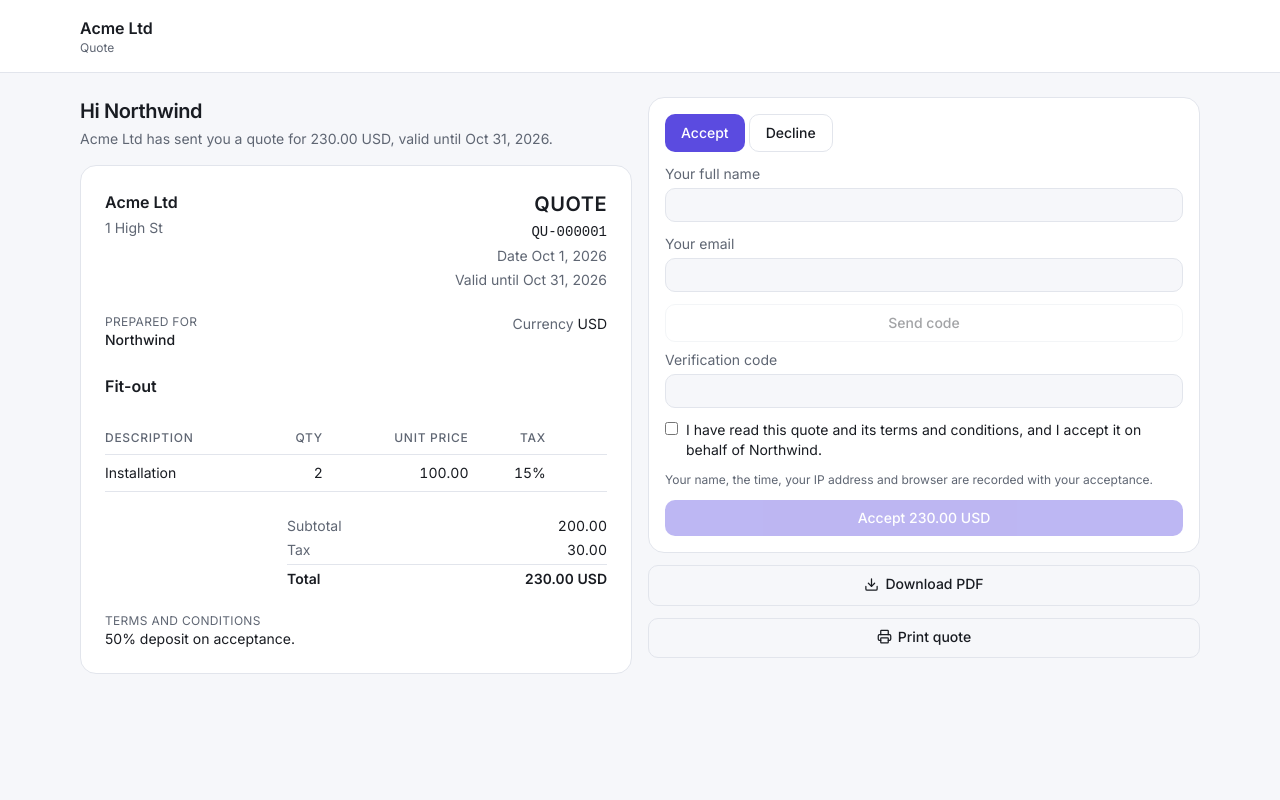
Scenario: PublicQuotePage › requires an emailed code when the organization asks for one
Expected: the heading "Hi Northwind" is shown, top-left (80, 99), bottom-right (202, 123)
Type "Jane Doe" into the field labelled "Your full name" at (924, 205), box top-left (665, 188), bottom-right (1183, 222)
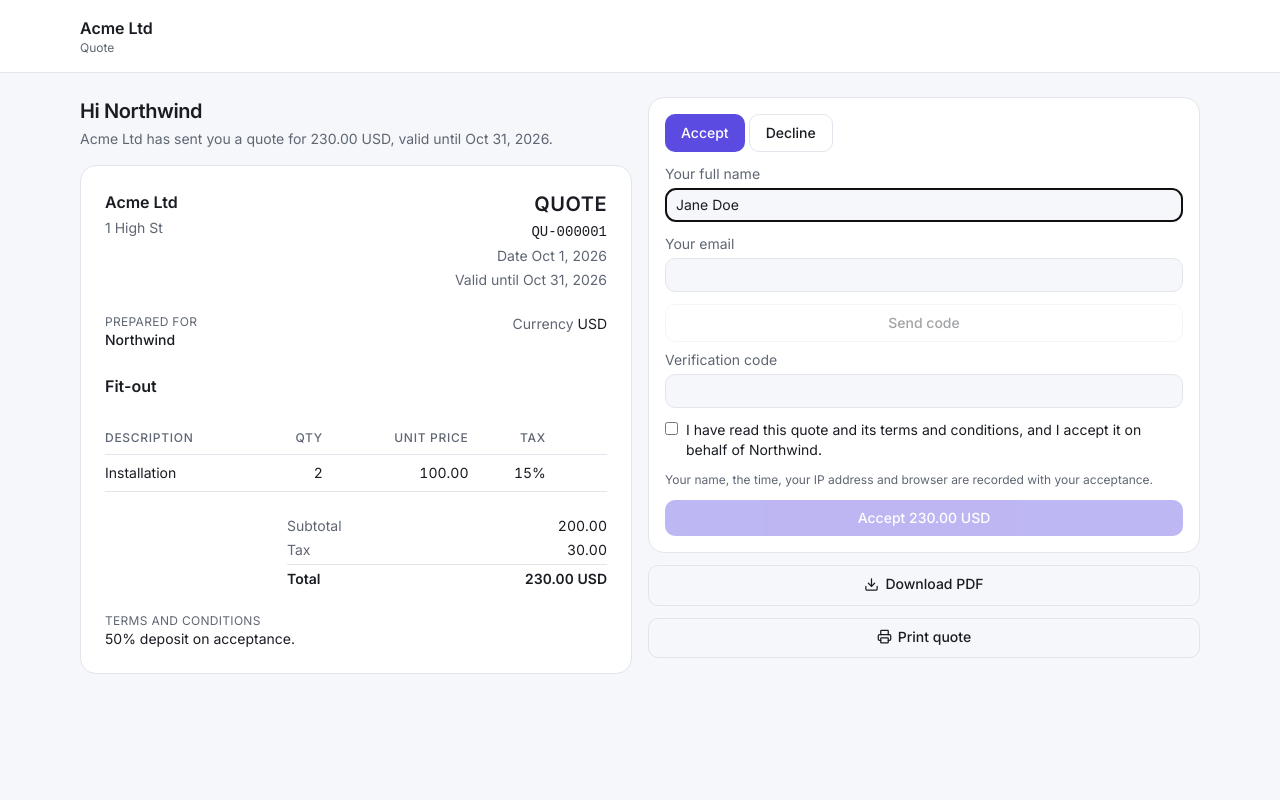
Click the checkbox at (672, 428), box top-left (665, 422), bottom-right (678, 435)
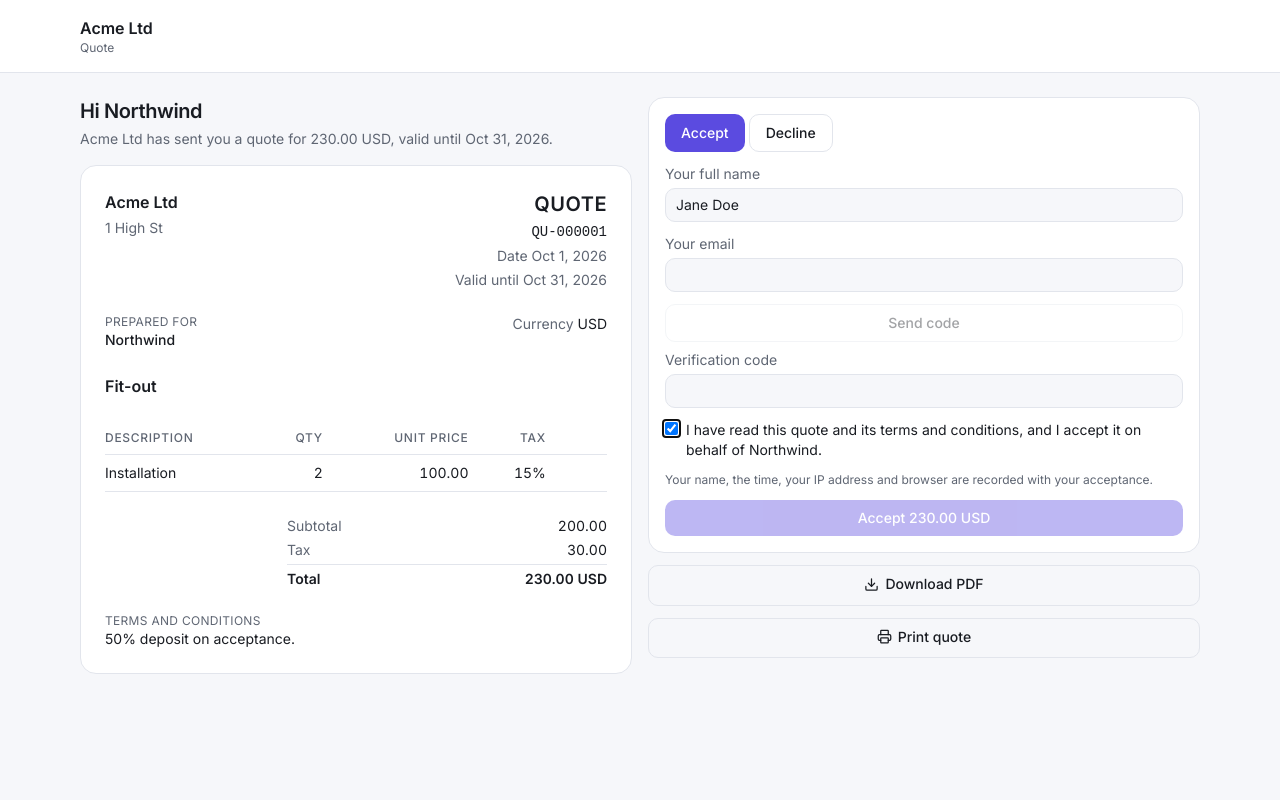
Expected: the button "Accept 230.00 USD" is disabled, top-left (665, 500), bottom-right (1183, 536)
Type "jane@northwind.test" into the field labelled "Your email" at (924, 275), box top-left (665, 258), bottom-right (1183, 292)
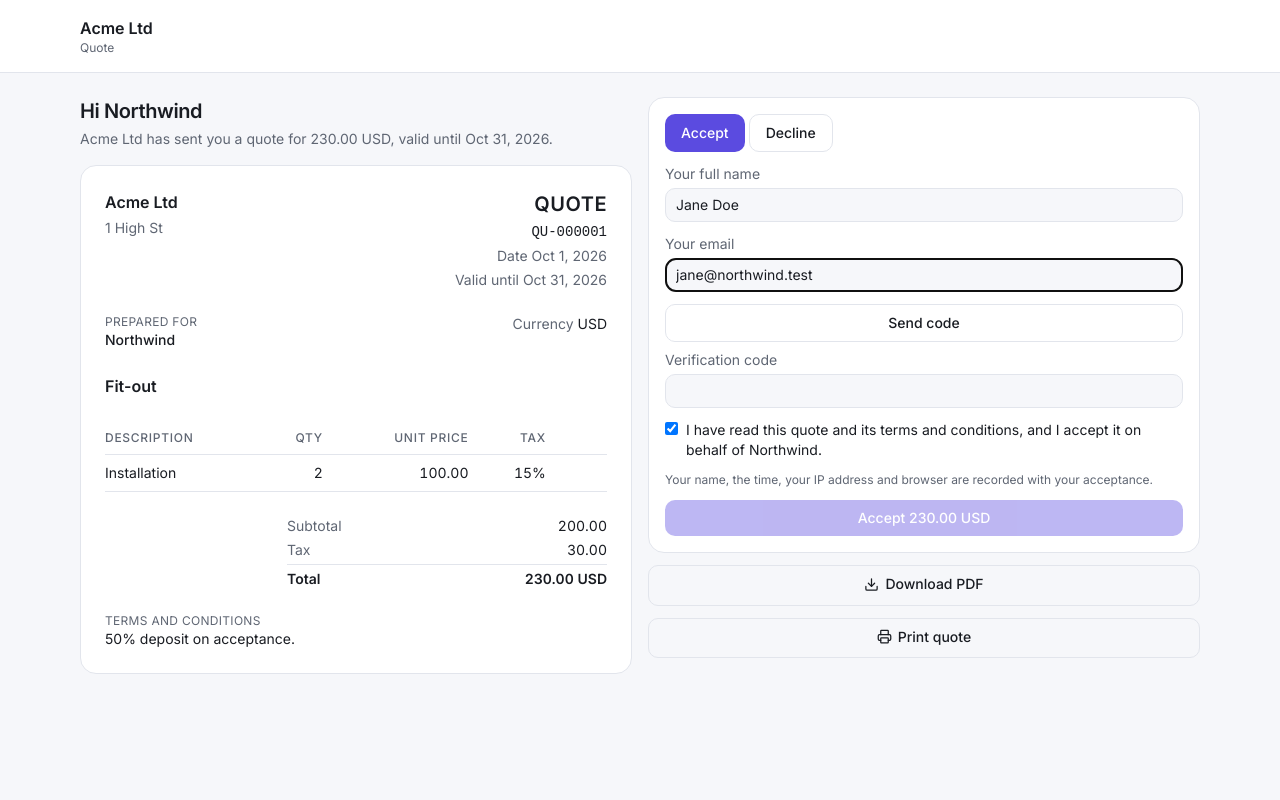
Click the button "Send code" at (924, 323), box top-left (665, 304), bottom-right (1183, 342)
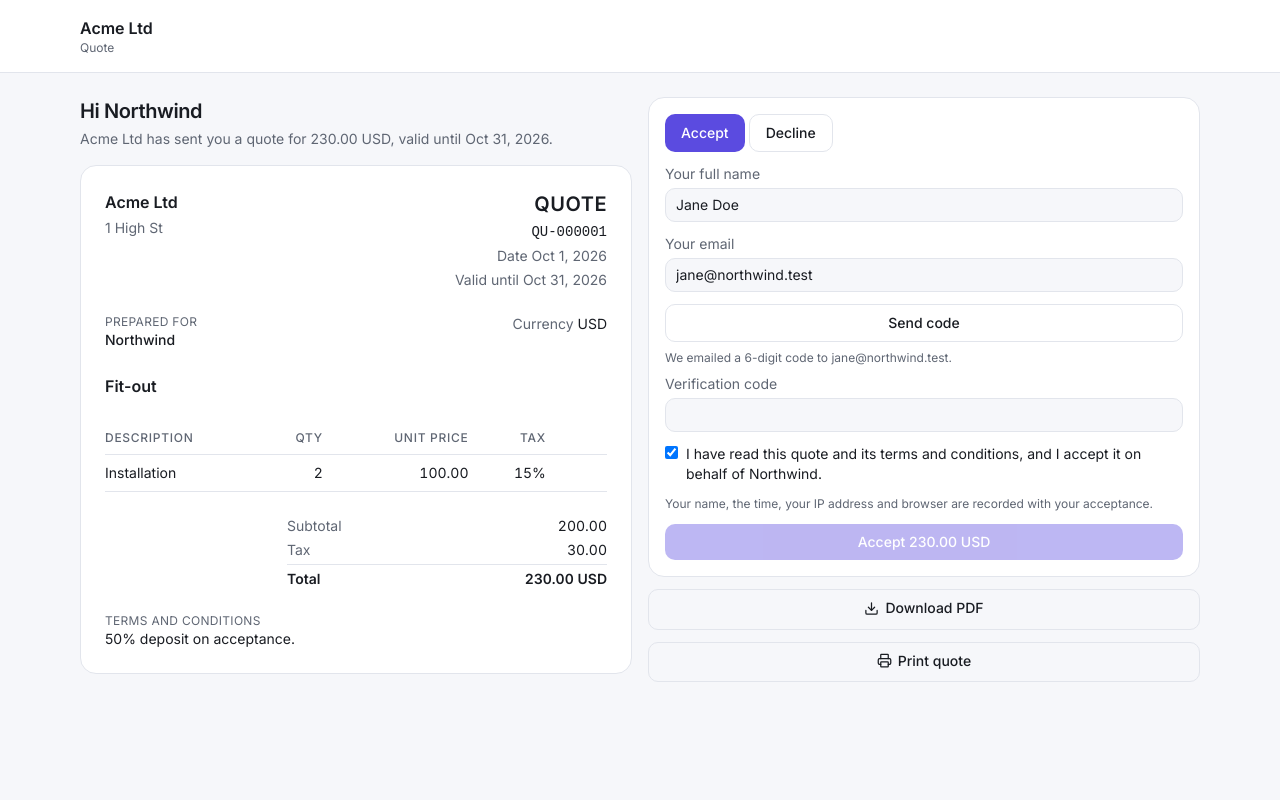
Now the text "We emailed a 6-digit code to jane@northwind.test." is shown, box top-left (665, 350), bottom-right (952, 365)
Type "123456" into the field labelled "Verification code" at (924, 415), box top-left (665, 398), bottom-right (1183, 432)
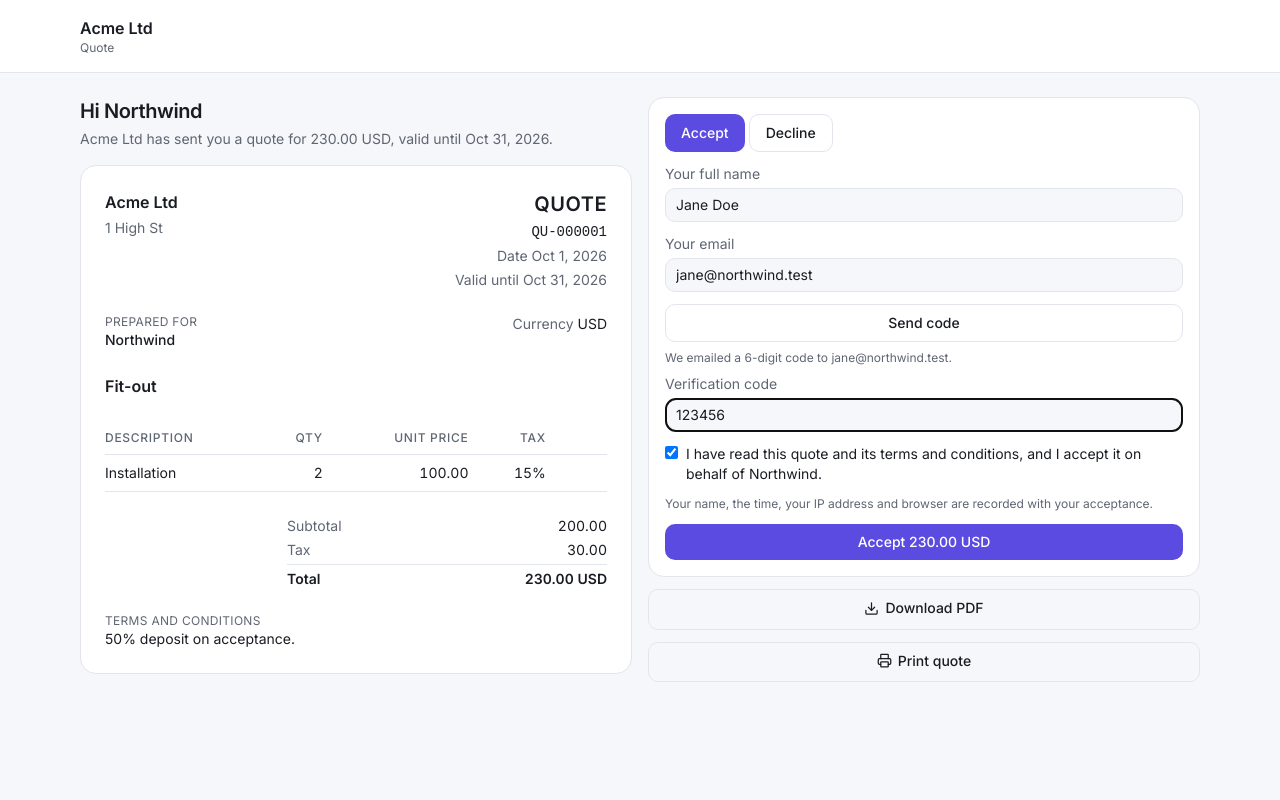
Now the button "Accept 230.00 USD" is enabled
Click the button "Accept 230.00 USD" at (924, 542), box top-left (665, 524), bottom-right (1183, 560)
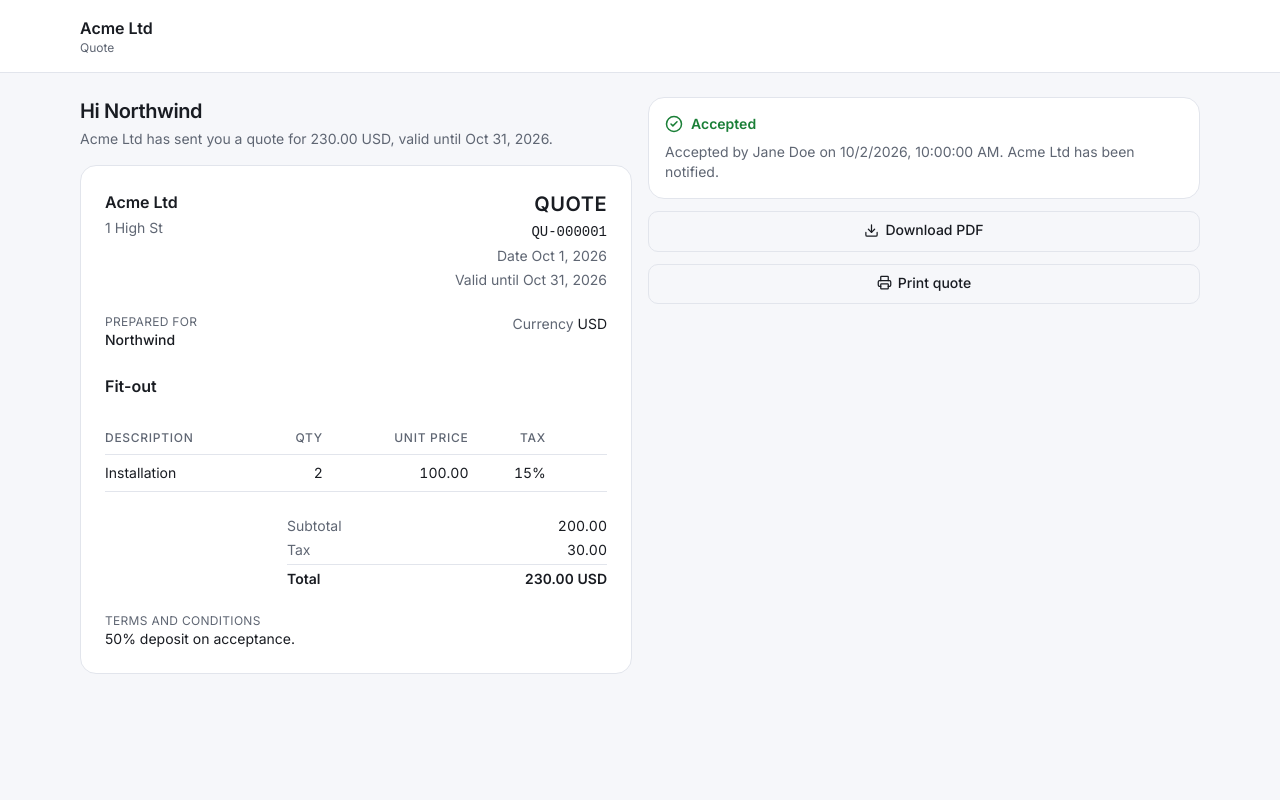
Now the text "Accepted" is shown, box top-left (665, 115), bottom-right (756, 133)
